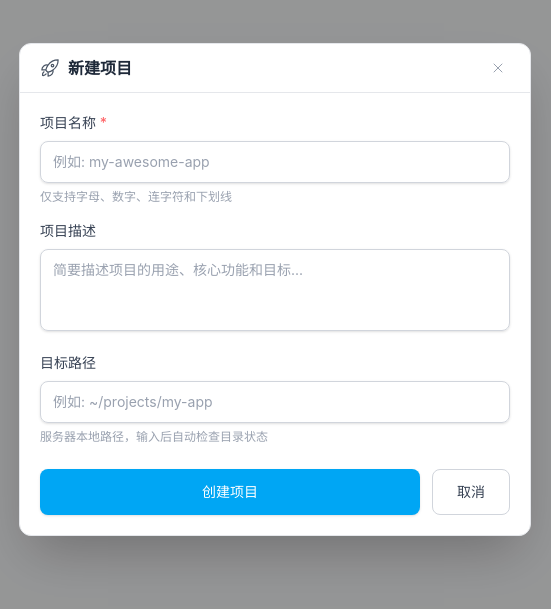
ProjectModal › shows error when submitting without name
What coordinates should you click on to do the following:
click the button "创建项目"
I would click on:
 (230, 492)
Its box is [40,468,420,514].
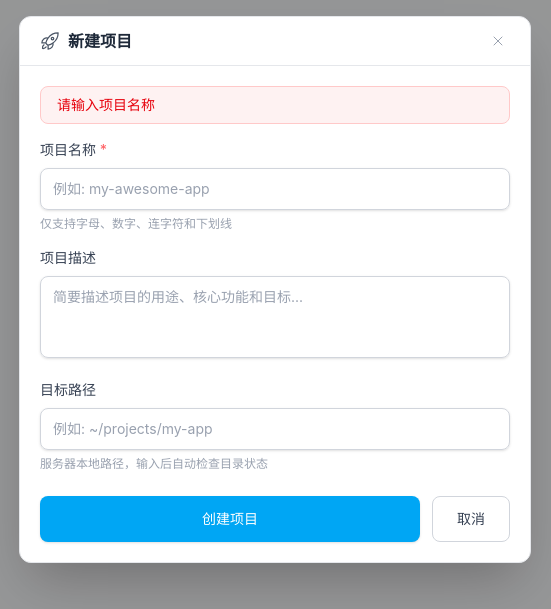
Expected: the text "请输入项目名称" is shown, [40,86,510,124]
